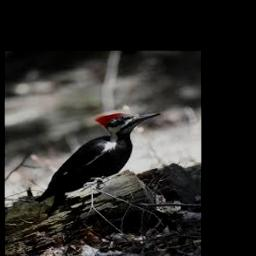Woodpecker: (35, 111, 160, 213)
